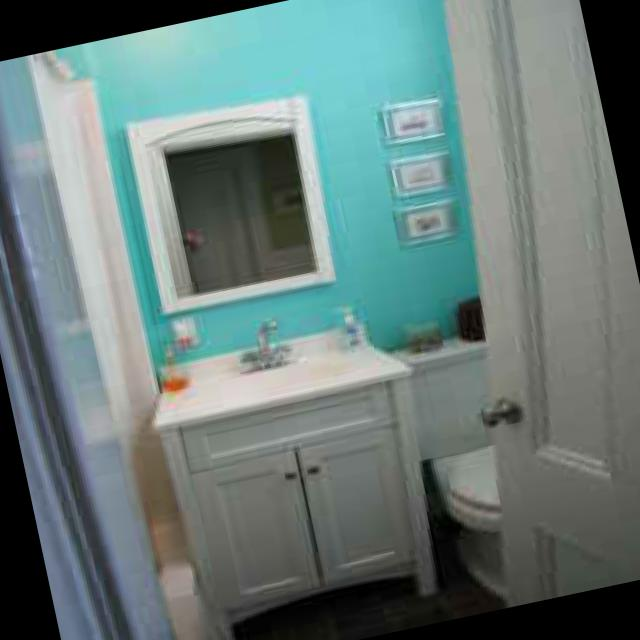cistern occluded: (394, 334, 490, 458)
closet crop: (160, 319, 440, 640)
curtain crop: (0, 58, 177, 640)
door bars: (440, 0, 640, 601), (194, 448, 319, 606), (302, 424, 415, 580)
faucet handle: (245, 317, 294, 371)
floor -X: (201, 493, 509, 640)
handle bar: (483, 391, 526, 423)
mirror crop: (131, 90, 339, 311)
picture crop: (396, 198, 459, 245), (386, 97, 447, 145), (392, 150, 453, 197)
rail crop: (41, 54, 88, 84)
shower crop: (108, 558, 217, 640)
soap bottle: (331, 302, 367, 343)
wall clock: (93, 0, 498, 572), (0, 42, 191, 575)
washbasin crop: (200, 354, 354, 404)
wc chair crop: (432, 441, 509, 603)
